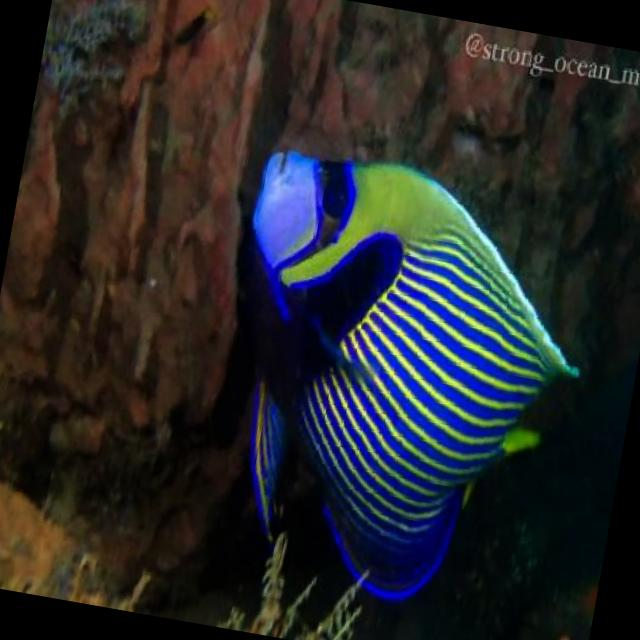AngelFish: (191, 141, 606, 628)
